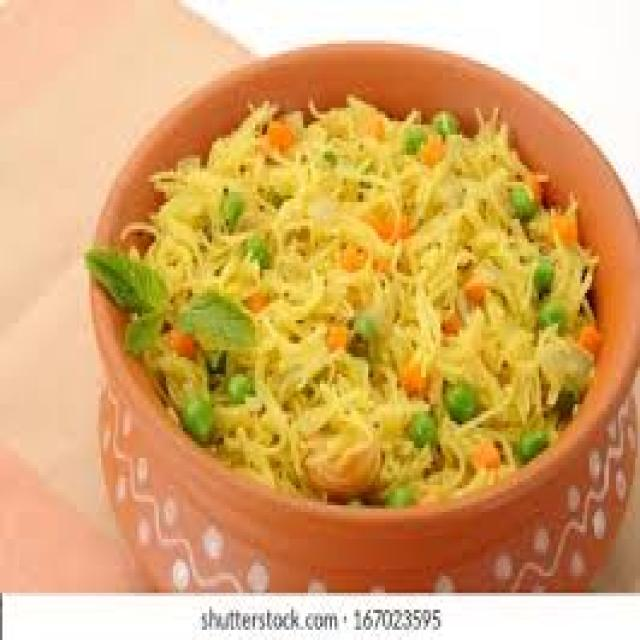POHA: (94, 94, 594, 499)
